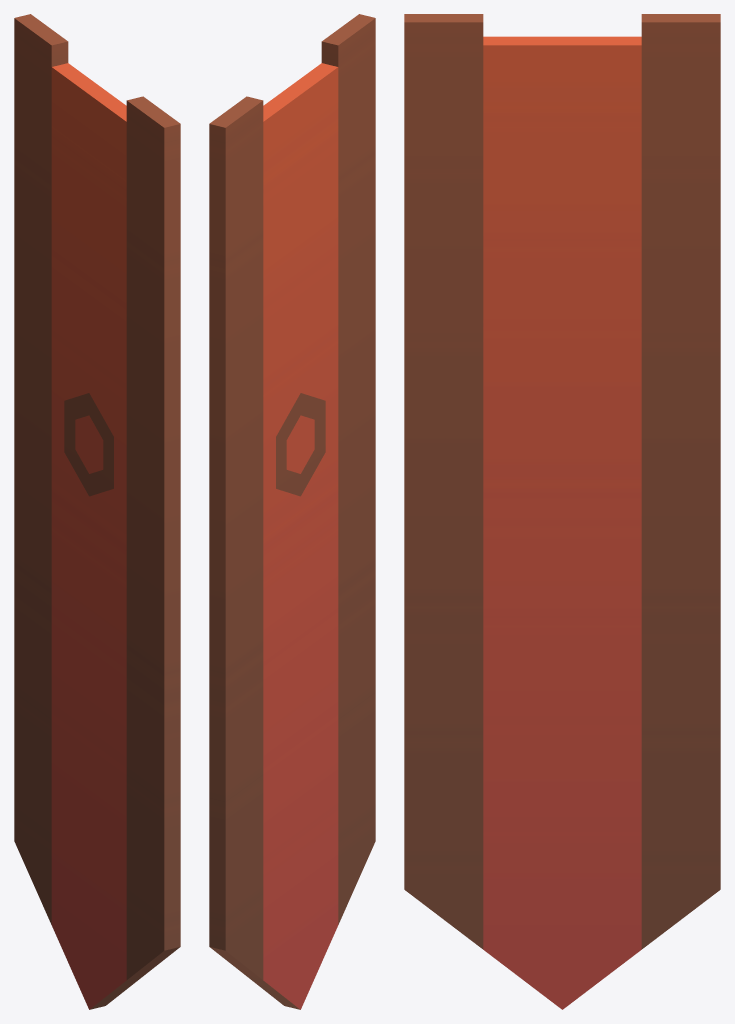
Rendered from flag-banner-long.fbx.
The picture shows the model from 3 angles, left to right: view 1: azimuth 30°, elevation 25°; view 2: azimuth 150°, elevation 25°; view 3: azimuth 270°, elevation 25°; orthographic projection. The views are drawn at different scales.
Parts seen in each view (by area): view 1: flag-banner-long; view 2: flag-banner-long; view 3: flag-banner-long.
Boxes of the visible parts, x1,y1,x2,y2 form: flag-banner-long: (14, 14, 180, 1009); flag-banner-long: (209, 14, 375, 1009); flag-banner-long: (404, 14, 720, 1009).
Bounding box in the file's own units: 0.04 × 0.63 × 2.17.
